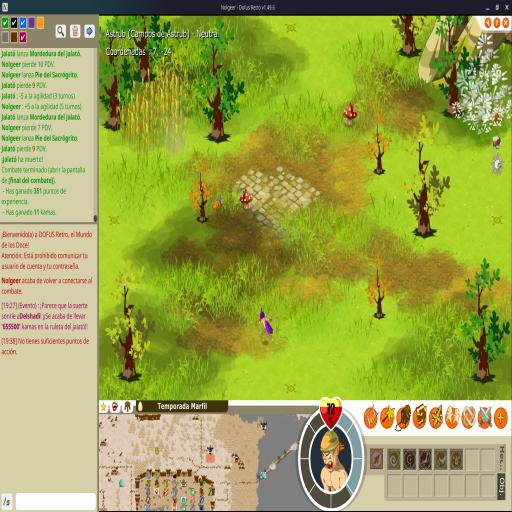Enemigos: (342, 102, 358, 126), (490, 152, 504, 176), (239, 188, 253, 211), (492, 106, 502, 125), (212, 197, 225, 211), (492, 136, 502, 151)
Personaje: (258, 308, 274, 342)
